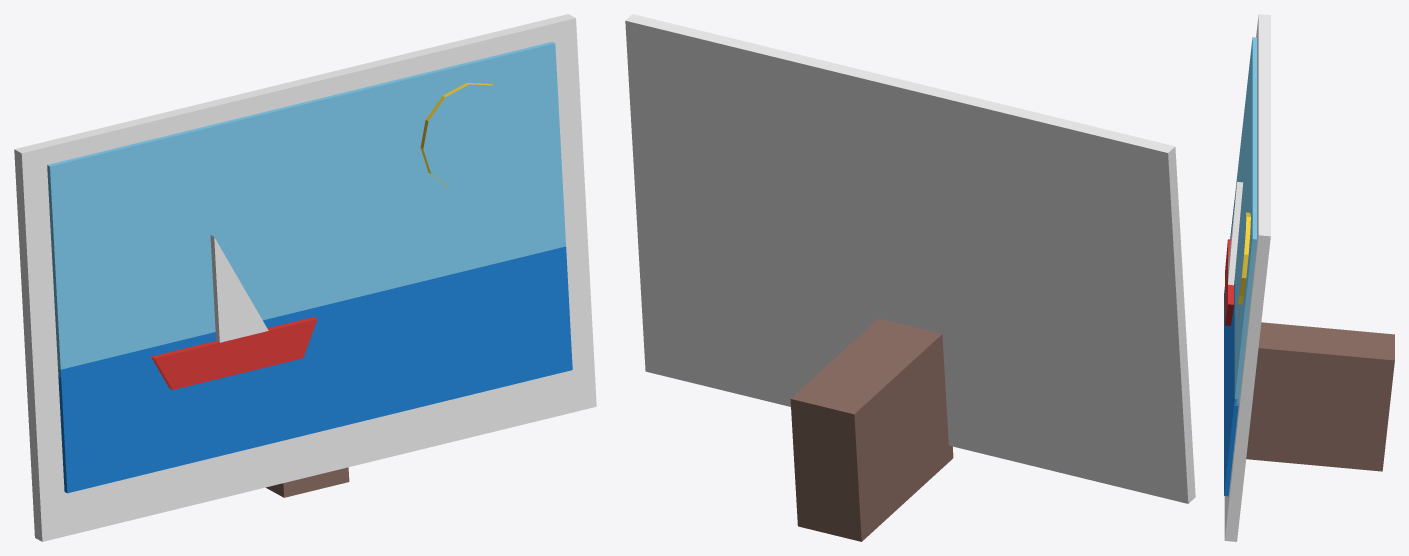
File: vykort.glb
The picture shows the model from 3 angles, left to right: view 1: azimuth 30°, elevation 25°; view 2: azimuth 150°, elevation 25°; view 3: azimuth 270°, elevation 25°; orthographic projection. The views are drawn at different scales.
Parts seen in each view (by area): view 1: vykort; view 2: vykort; view 3: vykort.
Part boxes in pixels (x1,y1,x2,y2): vykort: [14, 14, 596, 541]; vykort: [625, 14, 1195, 541]; vykort: [1224, 14, 1394, 541].
Bounding box in the file's own units: 0.34 × 0.2392 × 0.111.
